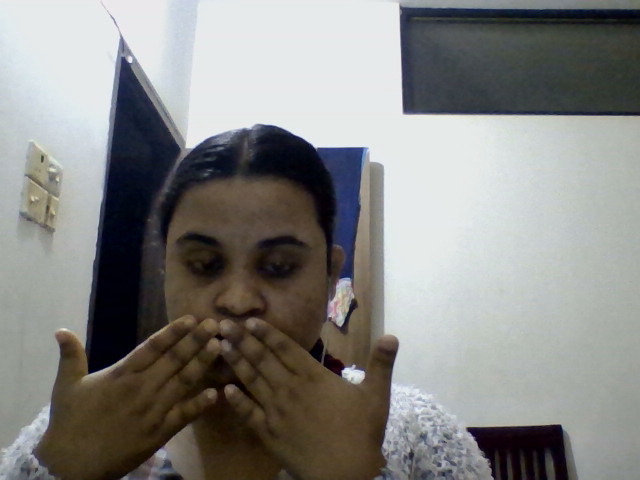Thank You: (18, 145, 527, 480)
